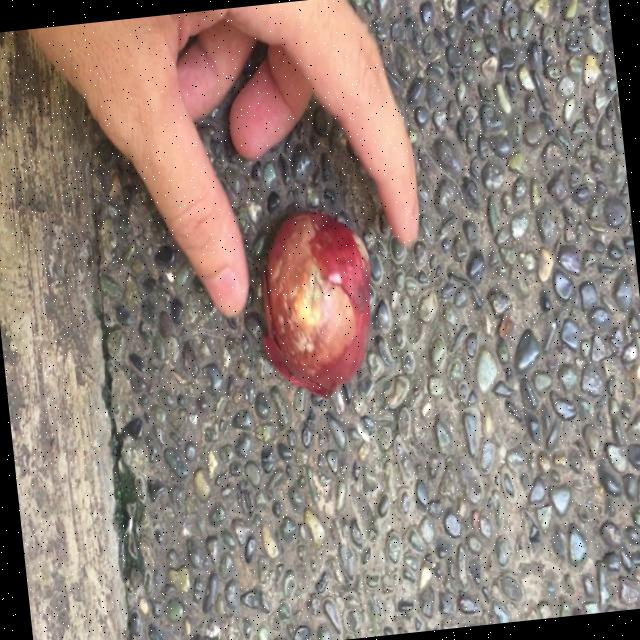Onion: (261, 210, 369, 397)
